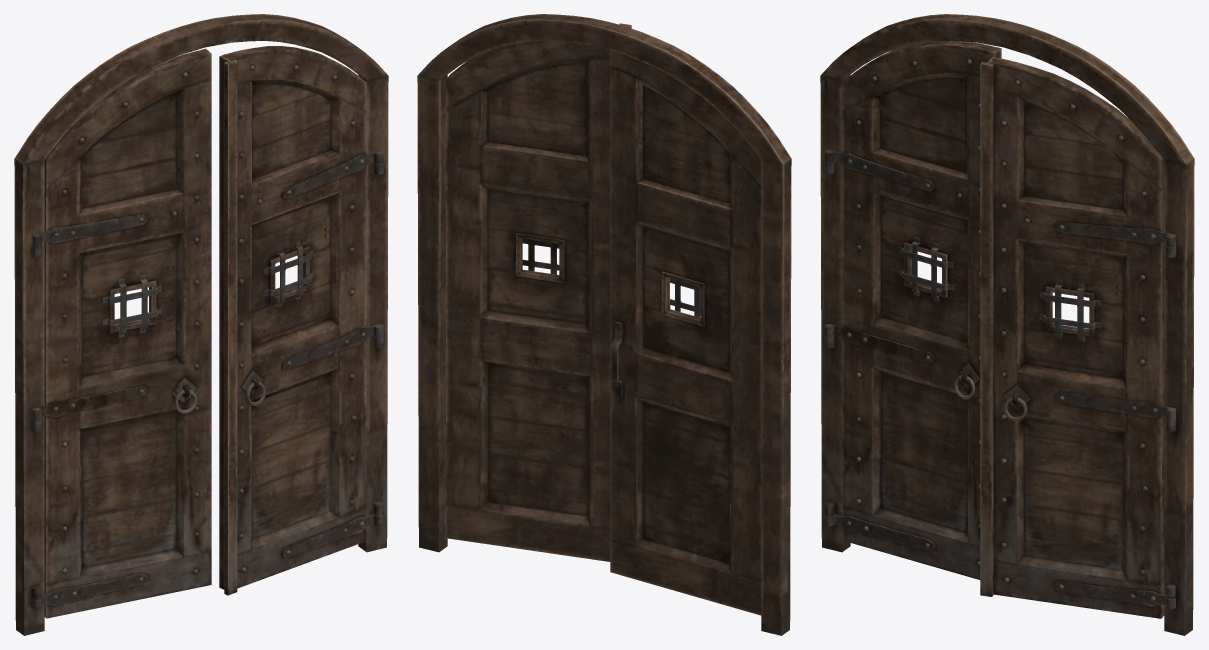
Rendered from large_castle_door.glb.
3 views of the same model, side by side, from view 1: azimuth 30°, elevation 25°; view 2: azimuth 150°, elevation 25°; view 3: azimuth 330°, elevation 25° (orthographic).
Parts seen in each view (by area): view 1: large_castle_door_left, large_castle_door_right, large_castle_door_frame; view 2: large_castle_door_right, large_castle_door_left, large_castle_door_frame; view 3: large_castle_door_right, large_castle_door_left, large_castle_door_frame.
Part boxes in pixels (x1,y1,x2,y2): large_castle_door_left: [32, 48, 211, 618]; large_castle_door_right: [219, 46, 383, 595]; large_castle_door_frame: [14, 14, 388, 635]; large_castle_door_right: [446, 23, 631, 561]; large_castle_door_left: [610, 50, 761, 615]; large_castle_door_frame: [417, 14, 791, 635]; large_castle_door_right: [980, 57, 1175, 618]; large_castle_door_left: [824, 41, 1001, 579]; large_castle_door_frame: [820, 14, 1194, 635].
Bounding box in the file's own units: 2.01 × 2.96 × 0.2964.
Materials: 1 (1 with a texture image).
